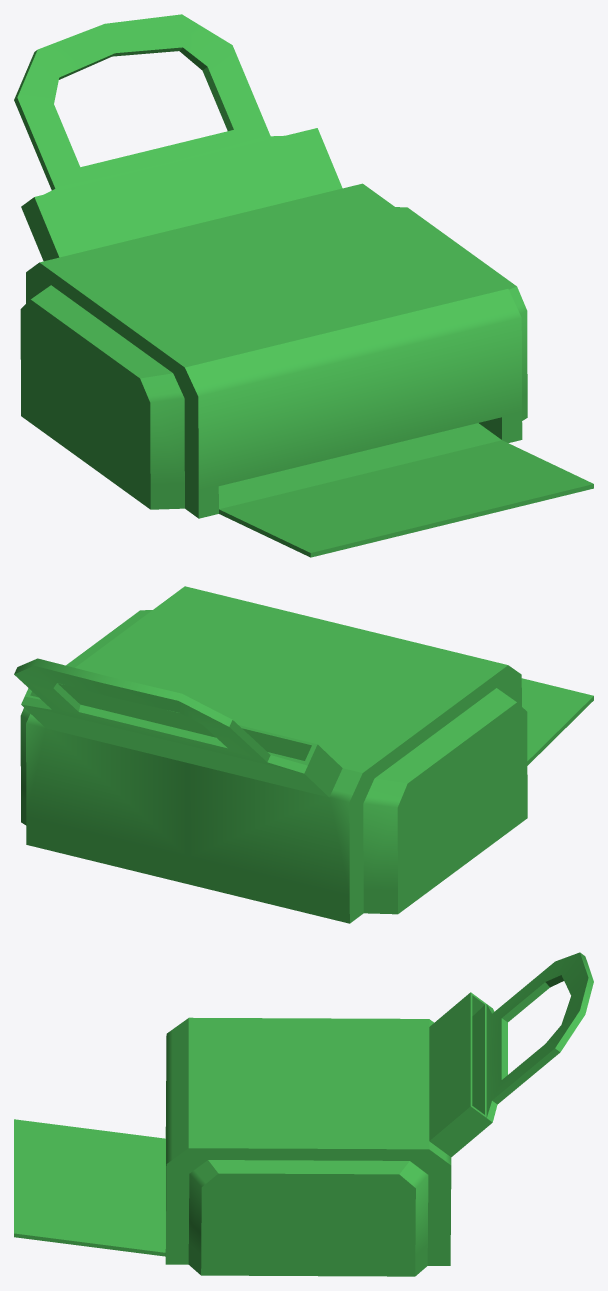
The model's file is drukarka.fbx.
3 views of the same model, one above another, from view 1: azimuth 30°, elevation 25°; view 2: azimuth 150°, elevation 25°; view 3: azimuth 270°, elevation 25° (orthographic). The views are drawn at different scales.
Parts seen in each view (by area): view 1: Box014; view 2: Box014; view 3: Box014.
Part boxes in pixels (x1=…): Box014: x1=14, y1=14, x2=593, y2=557; Box014: x1=14, y1=586, x2=593, y2=923; Box014: x1=14, y1=952, x2=593, y2=1276.
Size of the model in its own units: 27.69 by 18.95 by 44.65.
